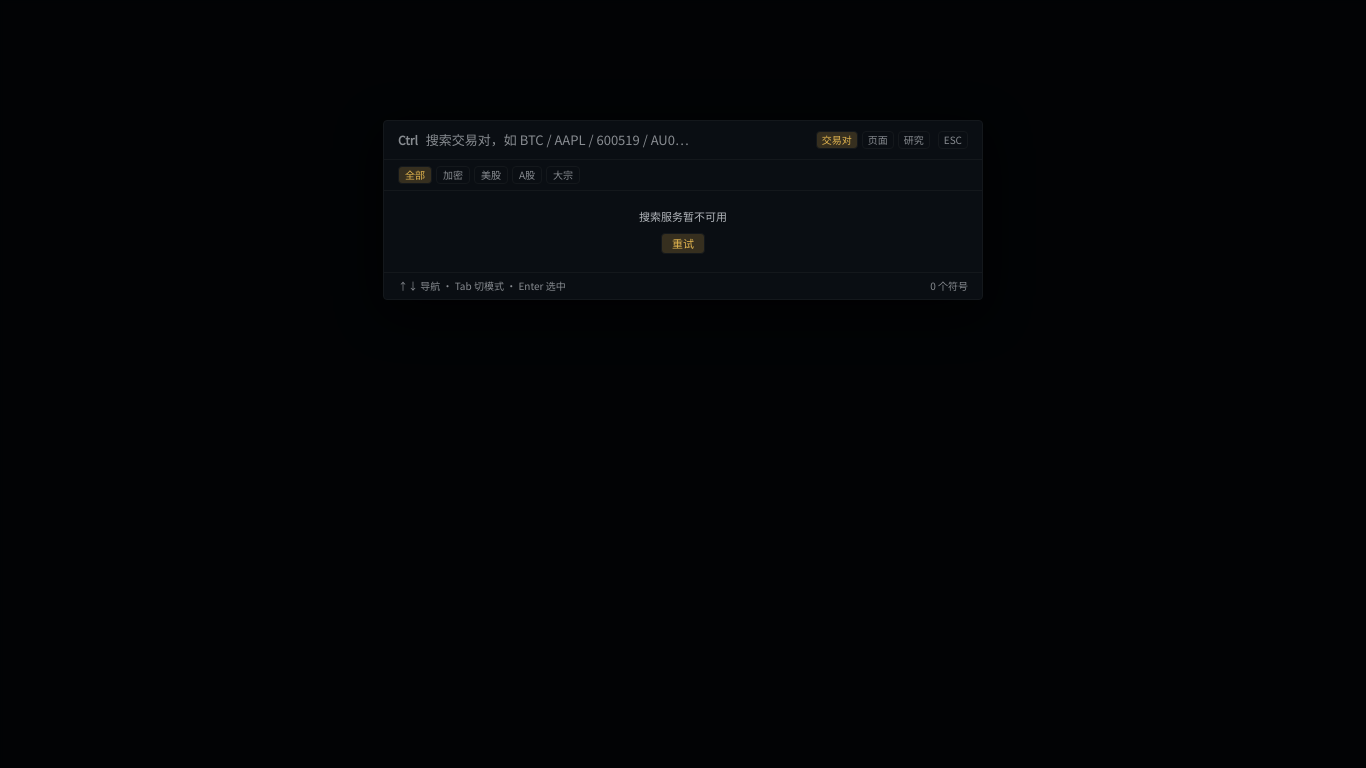
Scenario: CmdkPanel › 研究动作模式:needs_input mission 拍板 approve(透明性批3-11)
The width and height of the screenshot is (1366, 768).
Click the button with test id "mode-chip-action" at (914, 140), box [898,131,930,149]
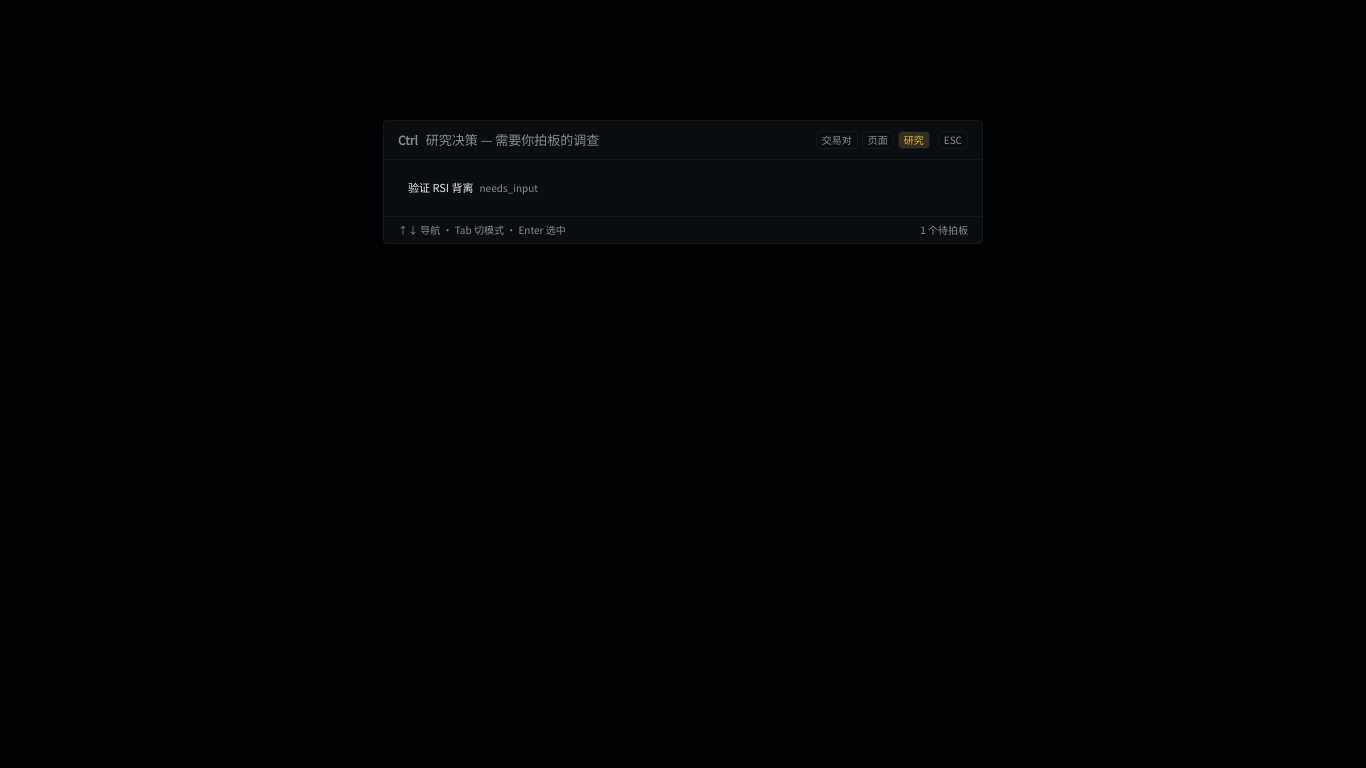
Click the option with test id "action-mission-row" at (473, 187), box [408,179,538,195]
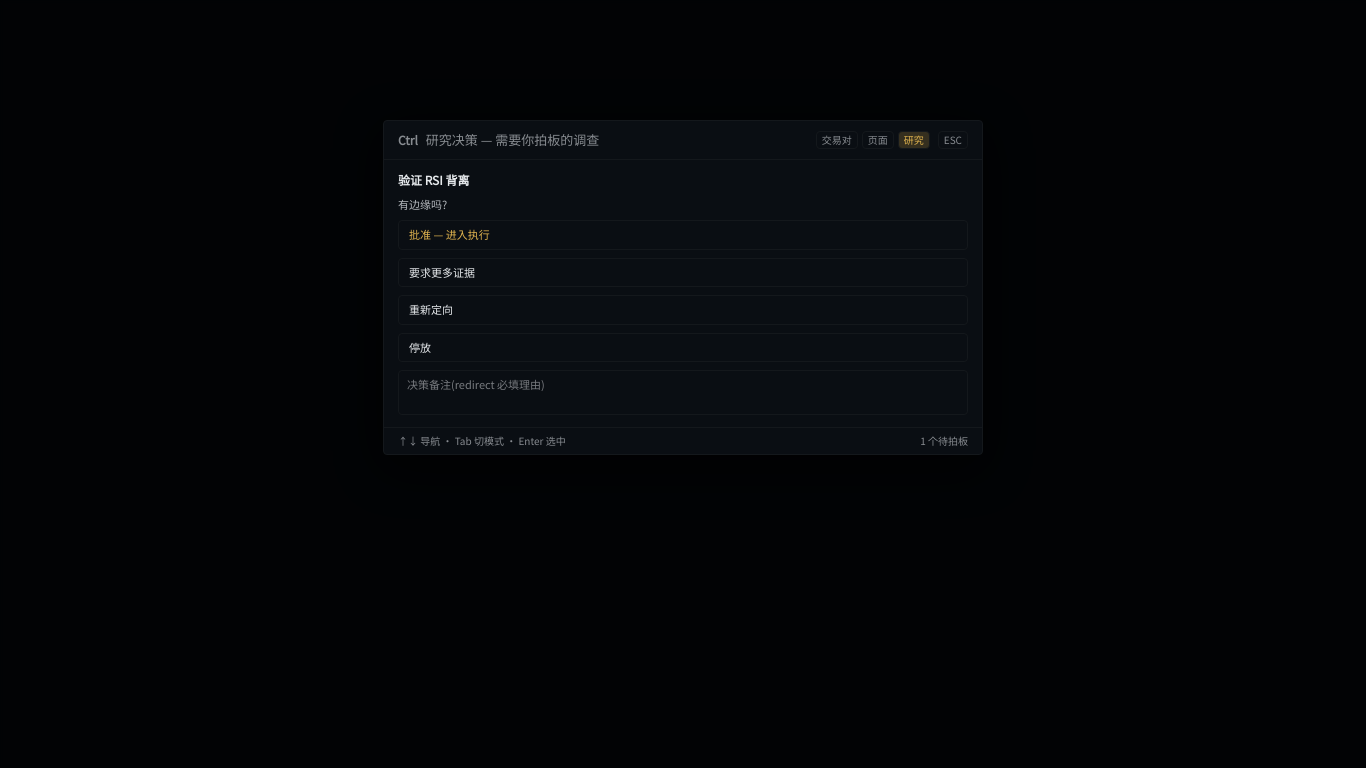
Click the button with test id "decision-approve" at (449, 234), box [398,220,968,250]
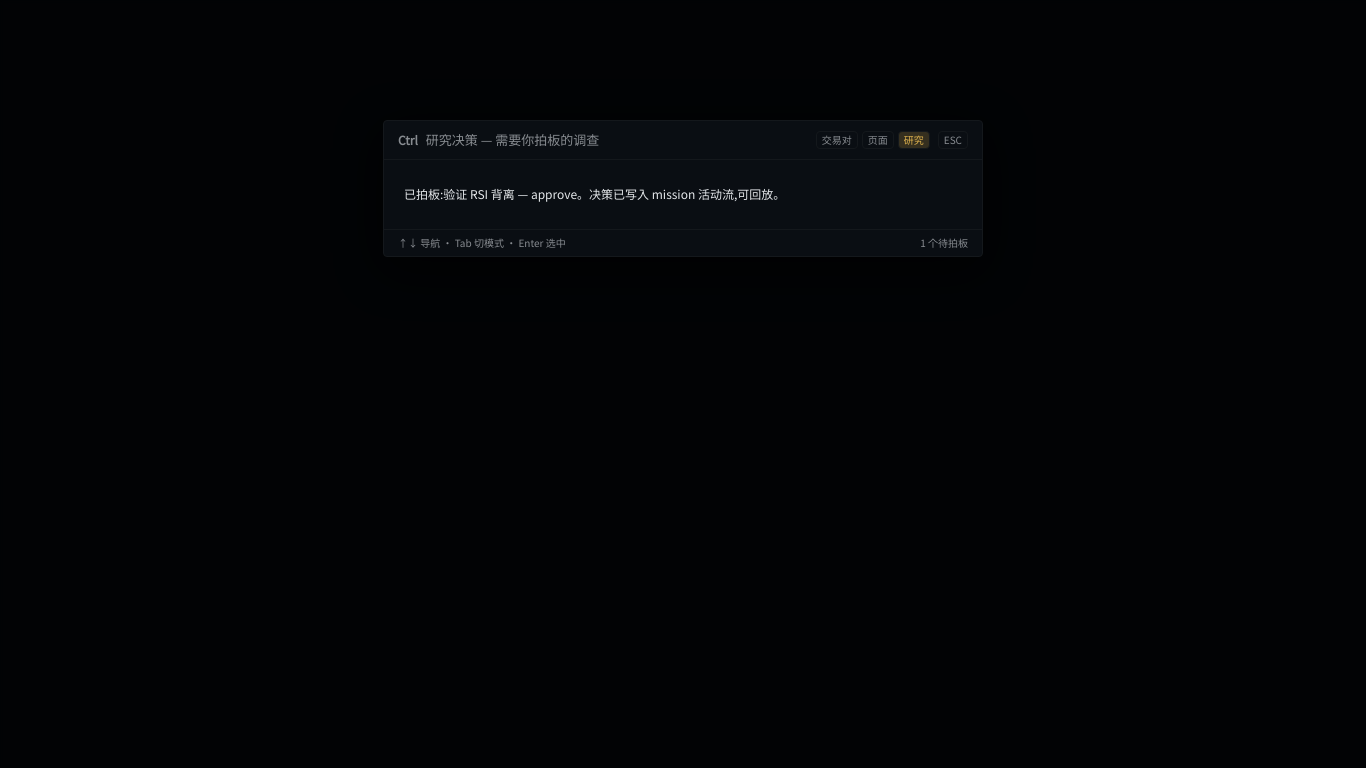
Expected: the text "已拍板:验证 RSI 背离 — approve。决策已写入 mission 活动流,可回放。" is shown, [404,185,785,202]
